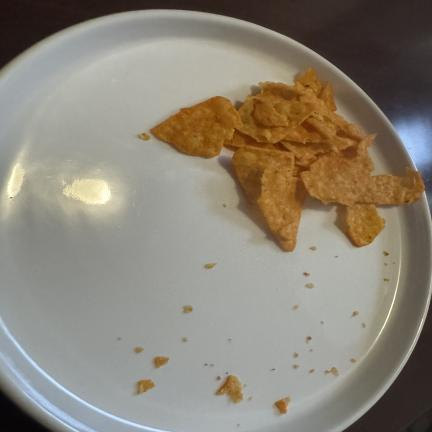chips: (152, 68, 424, 250), (301, 154, 424, 205), (152, 97, 242, 157), (258, 161, 306, 251), (301, 154, 369, 205), (233, 146, 293, 203), (357, 168, 424, 204), (237, 96, 286, 143), (254, 92, 313, 126), (347, 204, 385, 246), (281, 140, 330, 166), (343, 134, 376, 172), (224, 130, 275, 149), (284, 122, 323, 143), (216, 376, 242, 403), (298, 68, 321, 94), (319, 83, 336, 111), (259, 82, 290, 97), (275, 397, 290, 413), (138, 380, 154, 393), (155, 357, 169, 367)
